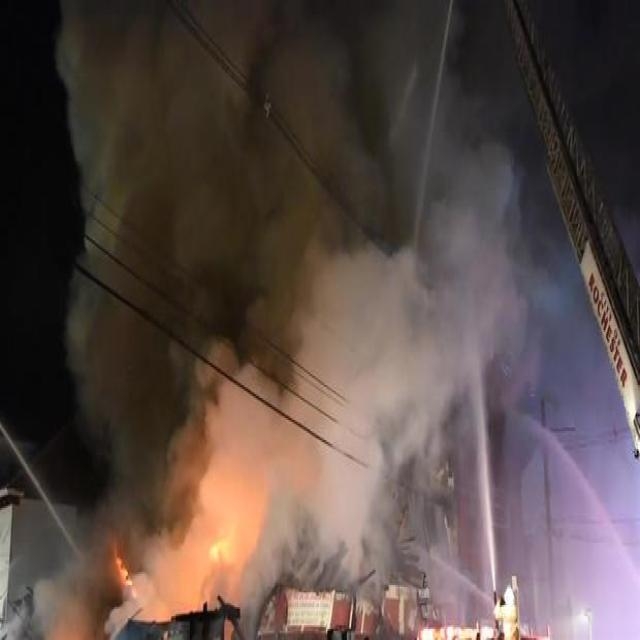Fire: (101, 472, 282, 622)
Smoke: (45, 0, 550, 480)
